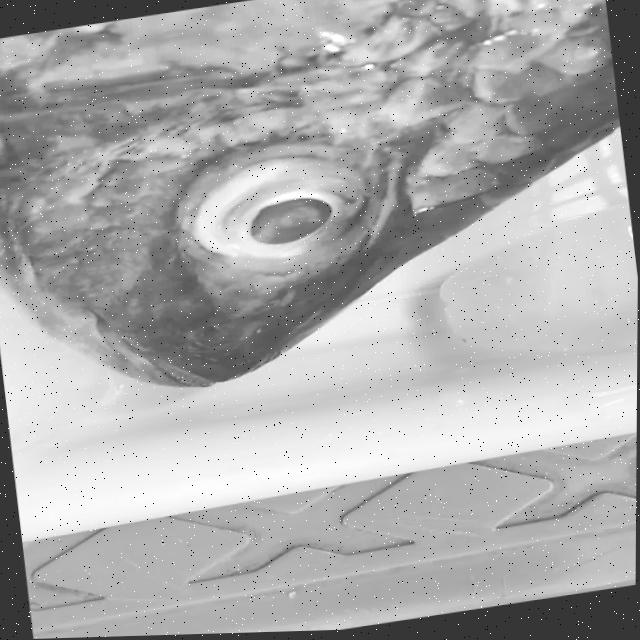Fresh: (185, 145, 415, 282)
